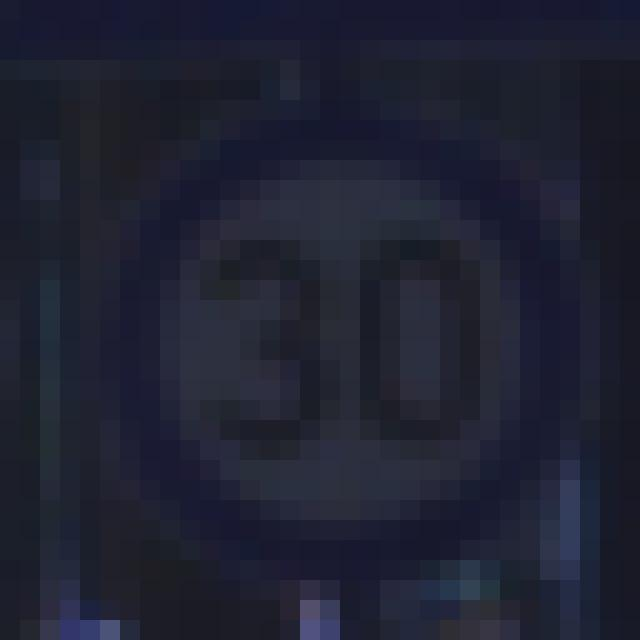SPEED LIMIT 30: (77, 117, 588, 560)
